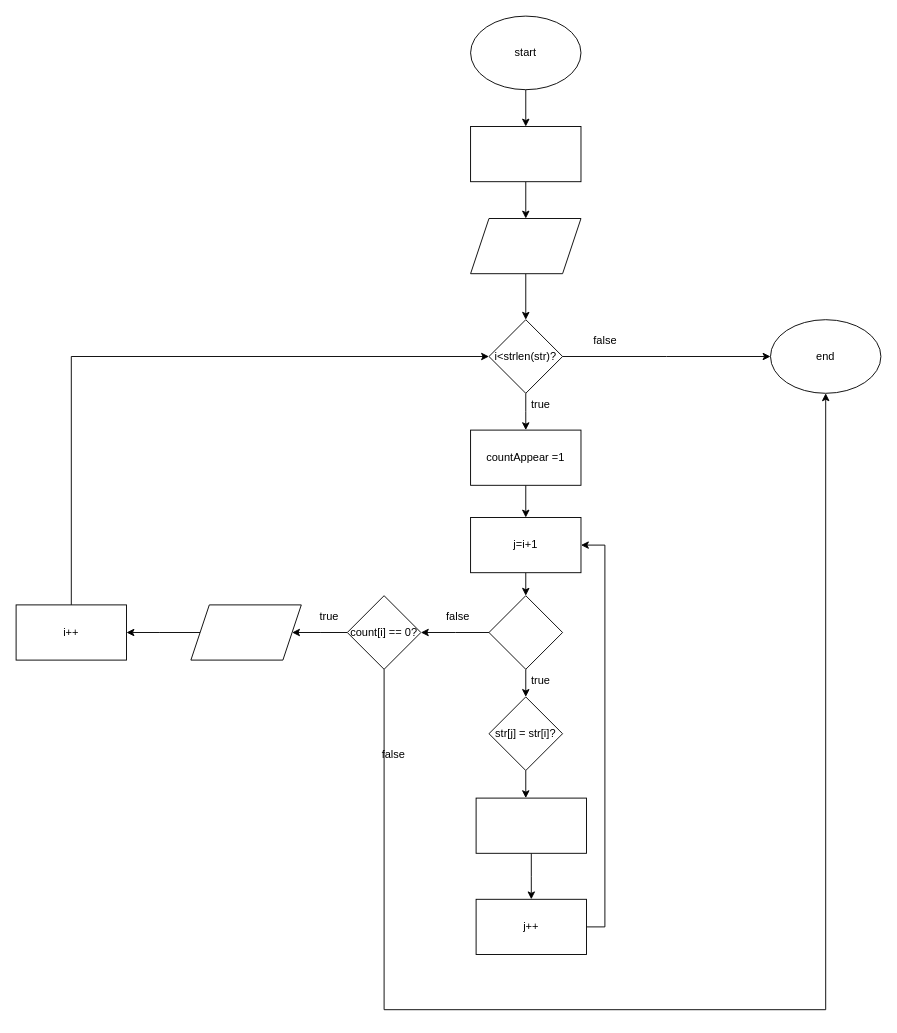
Image size: 897x1033. Some labels were removed from this diagram. Each missing label, with the centre of its shape:
"countAppear++ count[j] = 1" belongs at pixel 530 825.
"j<size?" belongs at pixel 525 632.
"nhap vao chuoi" belongs at pixel 525 246.
"str[100] count[100] = {0} countAppear size = strlen(str)" belongs at pixel 525 154.
"str[i],countAppear" belongs at pixel 245 632.
